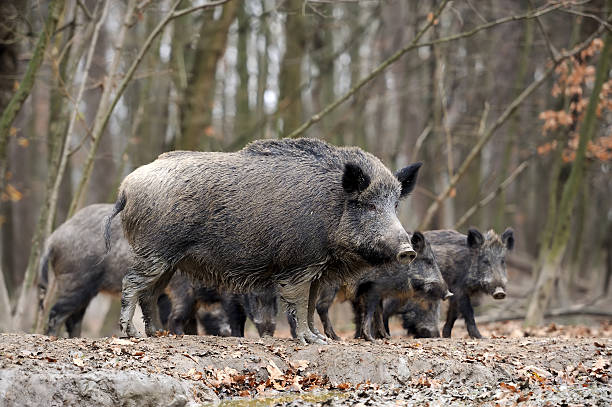pig: (106, 143, 419, 318)
